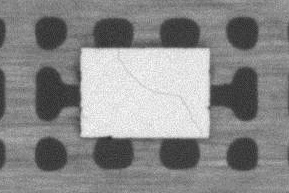DIE_CRACK: (118, 52, 202, 134)
